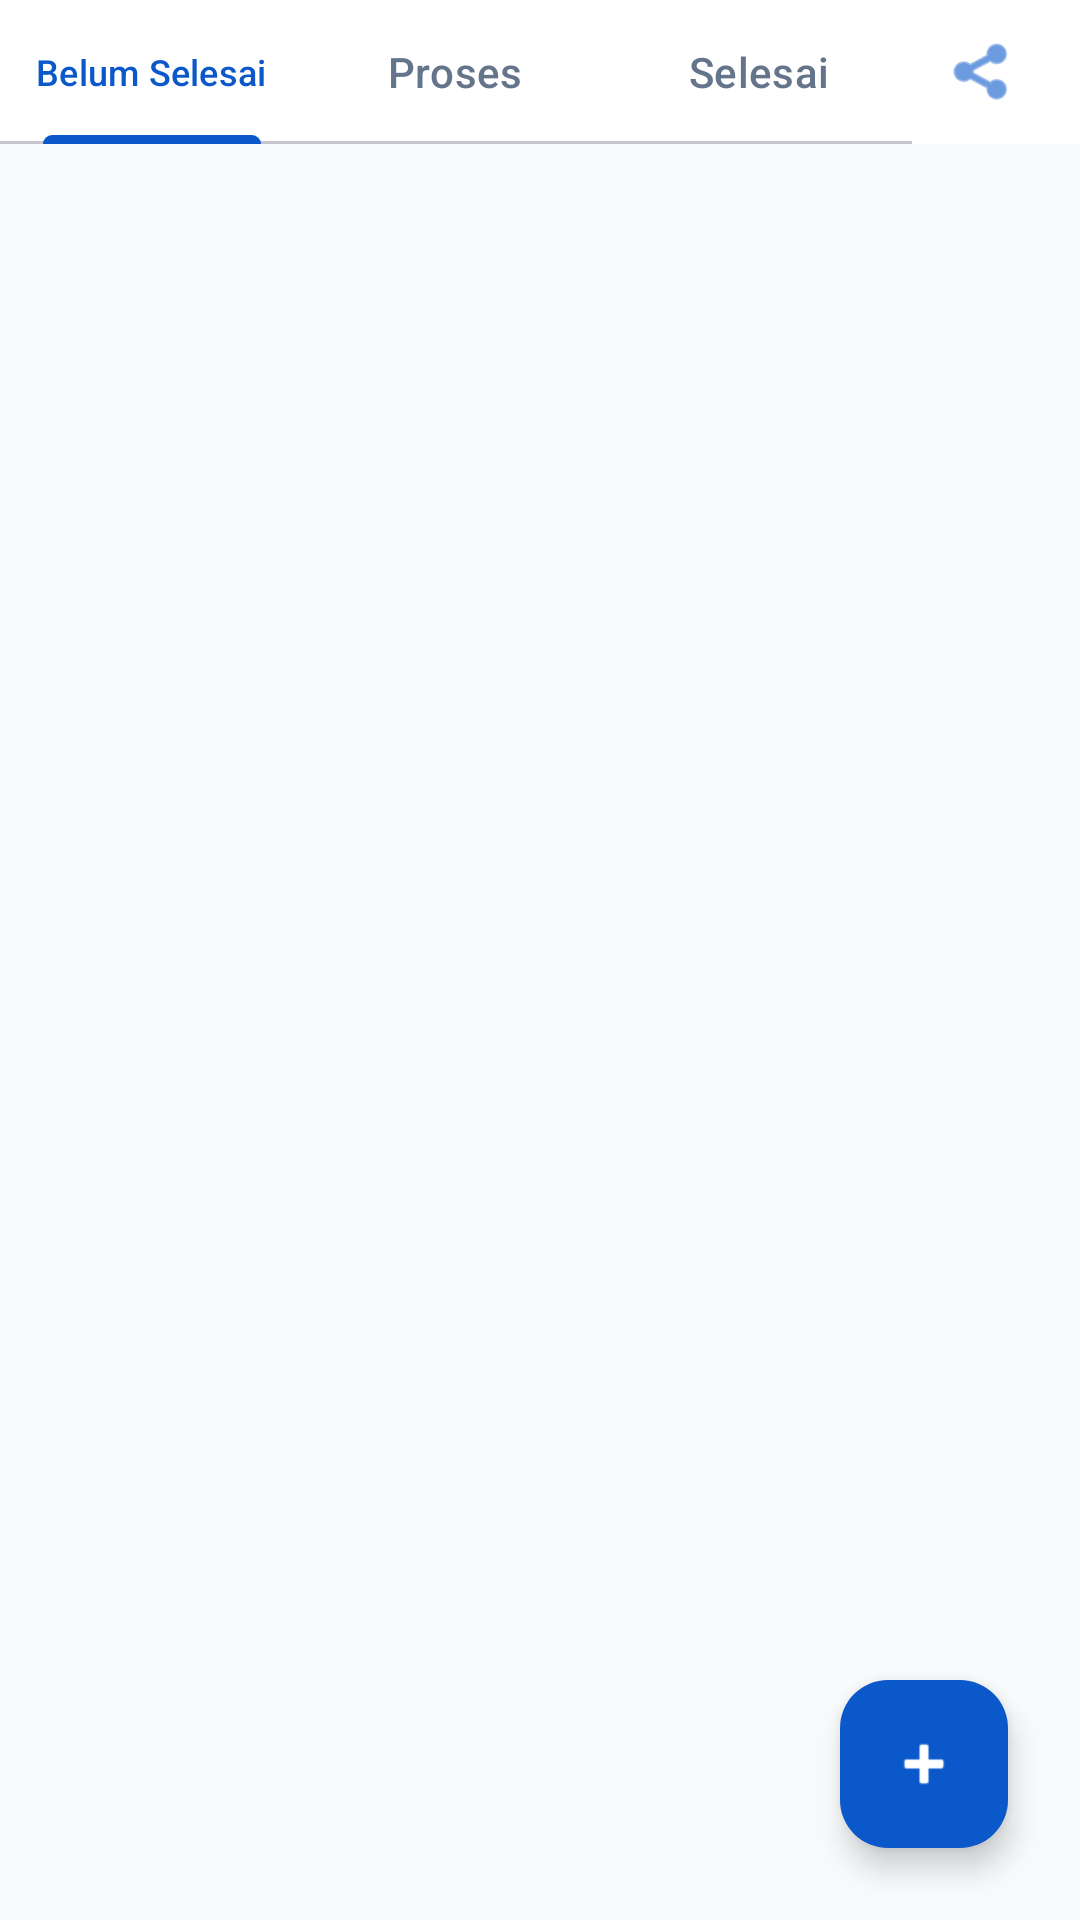

Icons on this 1080*1920 Android screen, each with the point to tap as point (x, y):
Bagikan Semua: point (980, 71)
Tambah Tugas: point (924, 1764)
